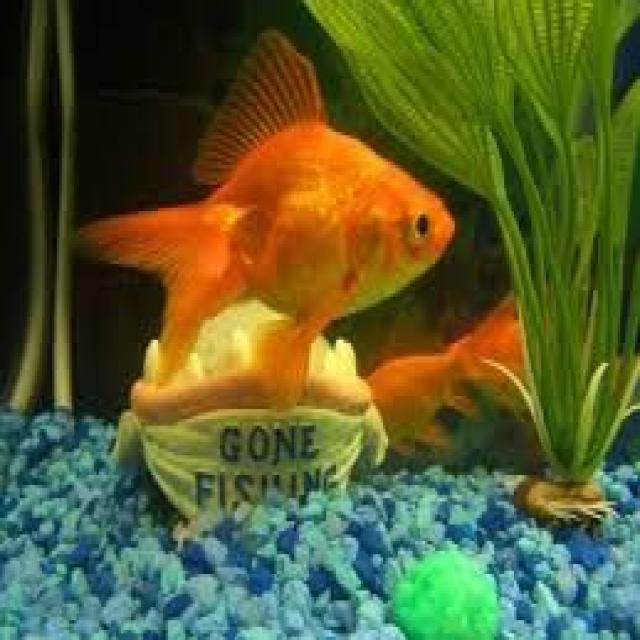Gold-Fish: (72, 14, 504, 437)
